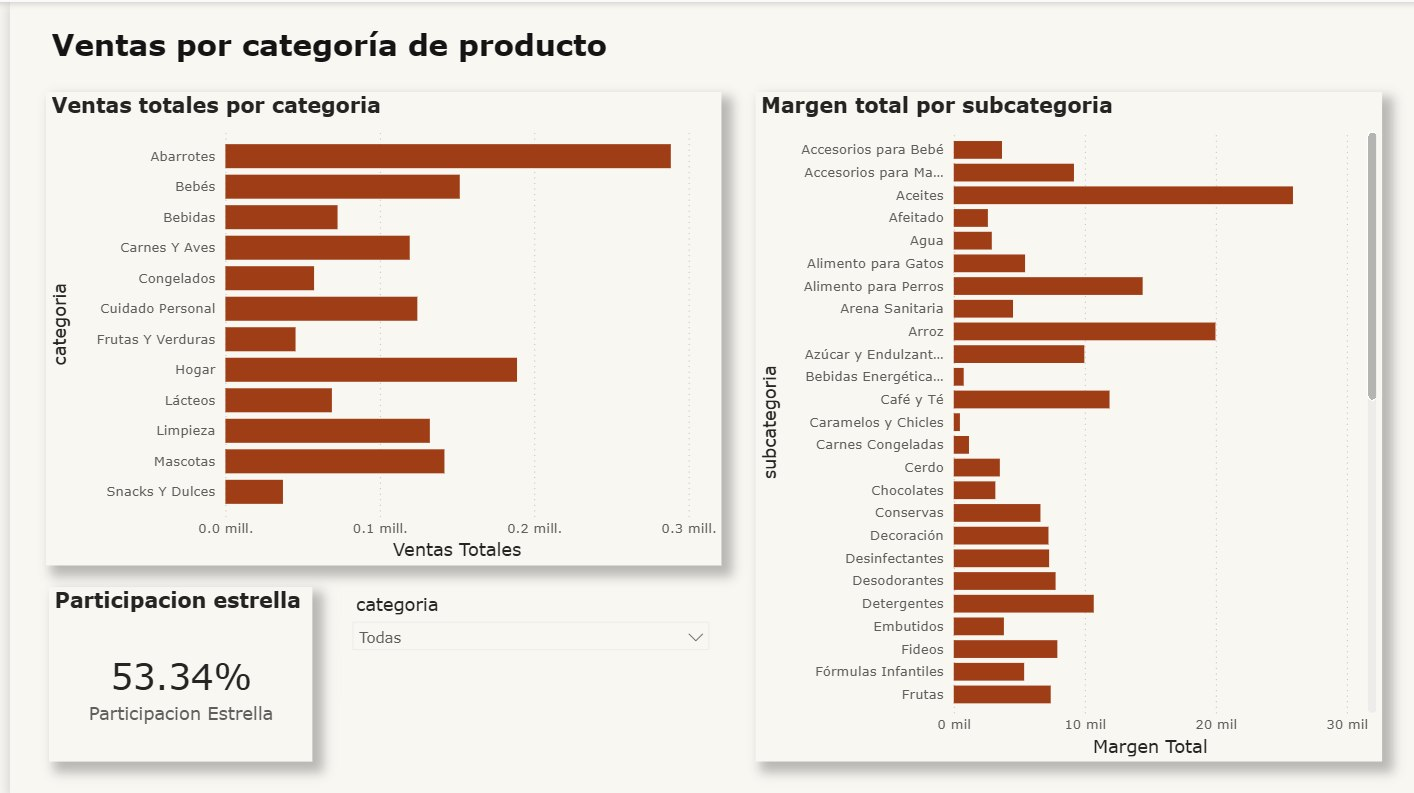

The dashboard page shown, as its layout file describes it:
{"tool":"powerbi","page":{"name":"02 Ventas Categoria Producto","canvas":[1280,720],"ordinal":1},"visuals":[{"type":"card","title":"Participacion estrella","fields":{"Values":["fact_ventas.Participacion Estrella"]},"box":[35.4,527.3,237.1,157.5],"z":0},{"type":"clusteredBarChart","title":"Margen total por subcategoria","fields":{"Category":["dim_producto.subcategoria"],"Y":["fact_ventas.Margen Total"]},"box":[672.4,81.4,564.5,603.4],"z":1000},{"type":"clusteredBarChart","title":"Ventas totales por categoria","fields":{"Category":["dim_producto.categoria"],"Y":["fact_ventas.Ventas Totales"]},"box":[31.9,81.4,608.7,426.5],"z":2000},{"type":"slicer","fields":{"Values":["dim_producto.categoria"]},"box":[299.1,527.3,341.5,100.9],"z":3000},{"type":"textbox","box":[31.9,15.9,571.6,46],"z":4000}]}

Visuals, with their boxes in screenshot pixels (x1, y1, x2, y2), scaled from the page's 1280x720 canvas onto the 1414x793 screenshot:
"Participacion estrella" card: rect(39, 581, 301, 754)
"Margen total por subcategoria" clusteredBarChart: rect(743, 90, 1366, 754)
"Ventas totales por categoria" clusteredBarChart: rect(35, 90, 708, 559)
slicer - dim_producto.categoria: rect(330, 581, 708, 692)
textbox: rect(35, 18, 667, 68)
